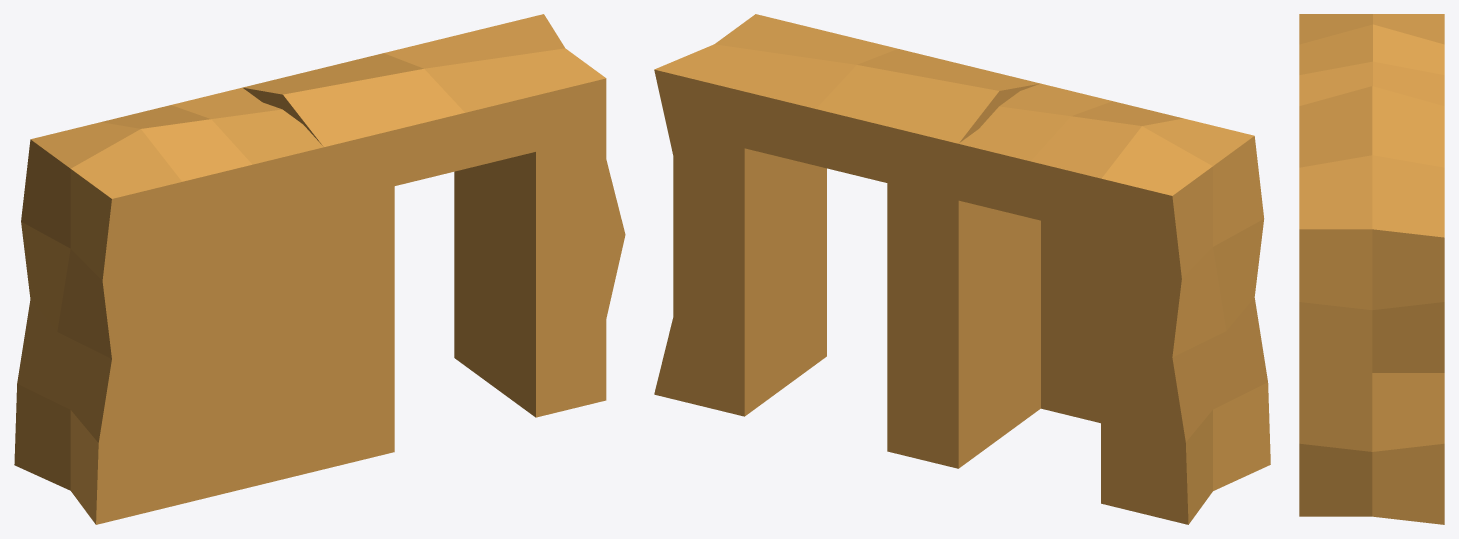
File: duas_passagens.fbx
3 renders of one model, left to right at view 1: azimuth 30°, elevation 25°; view 2: azimuth 150°, elevation 25°; view 3: azimuth 270°, elevation 25°, orthographic. The views are drawn at different scales.
Visible parts, largest first — view 1: duas passagens; view 2: duas passagens; view 3: duas passagens.
Part boxes in pixels (x1,y1,x2,y2): duas passagens: [14, 14, 625, 524]; duas passagens: [654, 14, 1270, 524]; duas passagens: [1299, 14, 1444, 524].
Size of the model in its own units: 7496 by 4664 by 2000.
